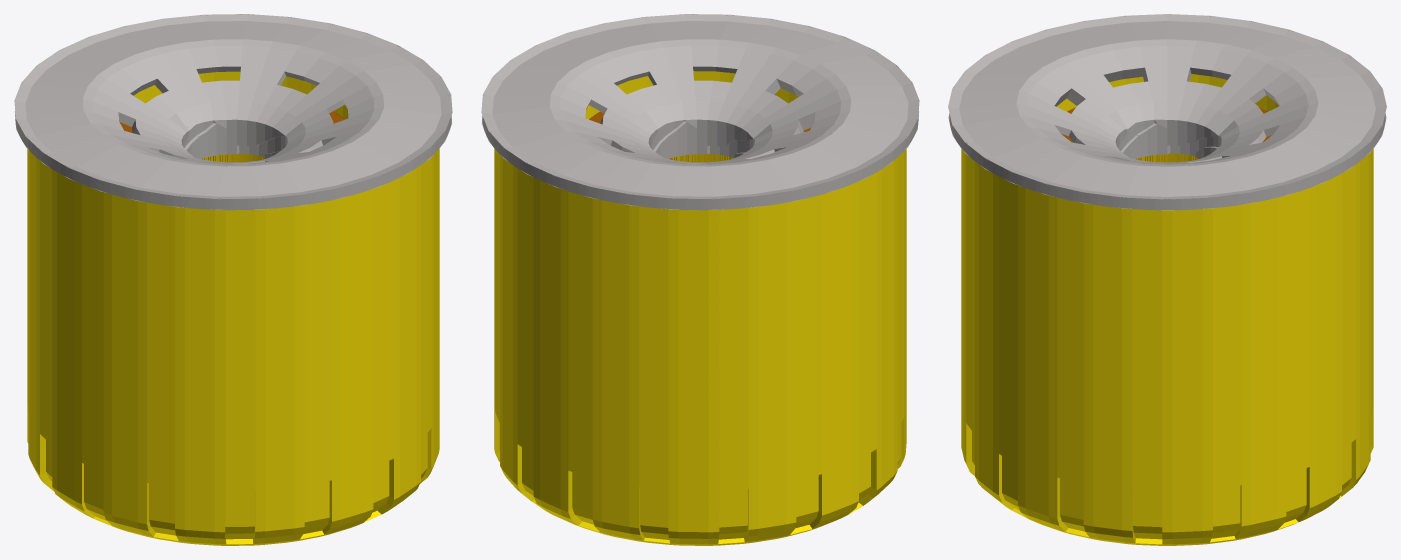
Rendered from filter.glb.
3 renders of one model, left to right at view 1: azimuth 30°, elevation 25°; view 2: azimuth 150°, elevation 25°; view 3: azimuth 270°, elevation 25°, orthographic.
Visible parts, largest first — view 1: obudowa, dekiel, filtr-wkład; view 2: obudowa, dekiel, filtr-wkład; view 3: obudowa, dekiel, filtr-wkład.
Boxes of the visible parts, bbox=[...] form: obudowa: bbox=[27, 71, 439, 545]; dekiel: bbox=[14, 14, 452, 210]; filtr-wkład: bbox=[119, 111, 344, 162]; obudowa: bbox=[494, 71, 906, 545]; dekiel: bbox=[481, 14, 919, 210]; filtr-wkład: bbox=[589, 111, 811, 162]; obudowa: bbox=[961, 74, 1373, 545]; dekiel: bbox=[948, 14, 1386, 210]; filtr-wkład: bbox=[1061, 107, 1271, 162].
Bounding box in the file's own units: 2.12 × 2.03 × 2.12.
